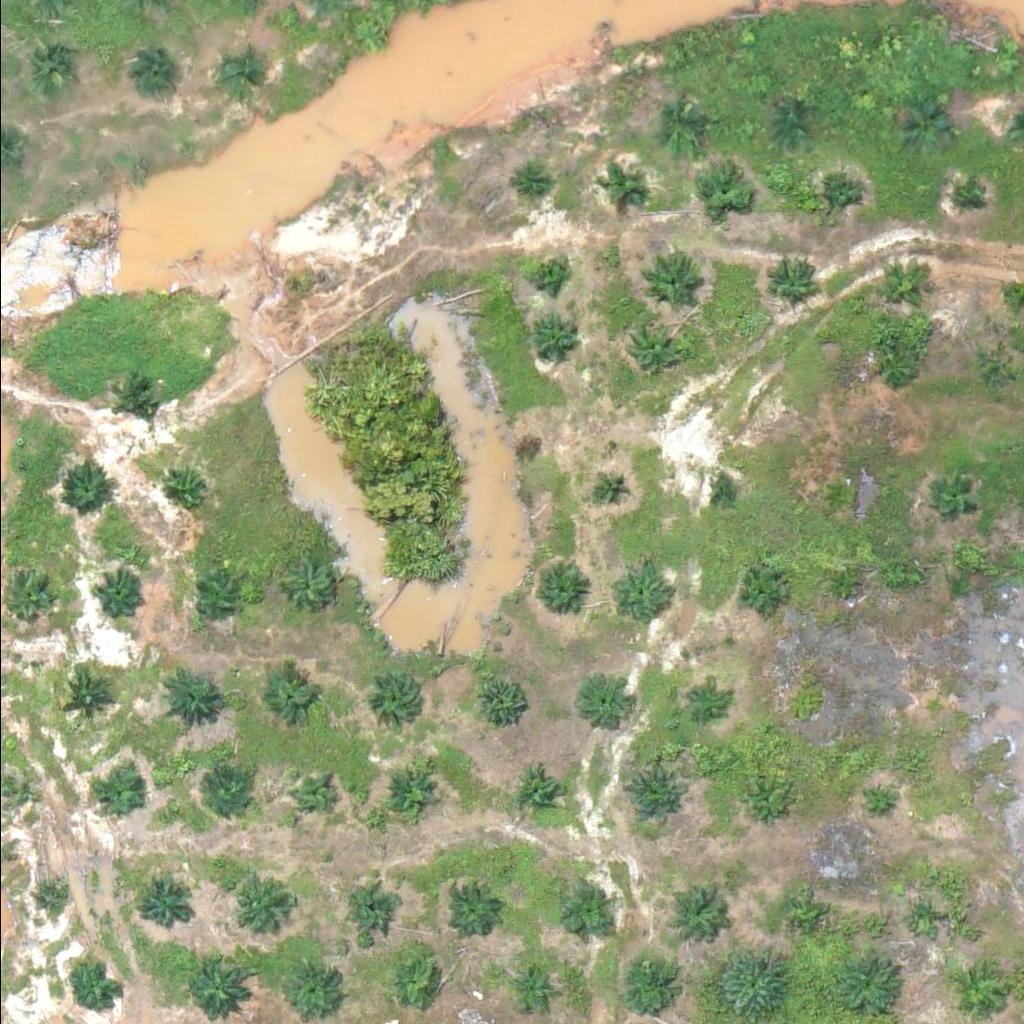Kelapa_Sawit: (829, 945, 905, 1020), (669, 878, 732, 941), (155, 666, 218, 729), (623, 763, 686, 826), (622, 317, 685, 380), (189, 957, 252, 1019), (226, 875, 289, 937), (279, 954, 342, 1016), (23, 37, 86, 99), (526, 557, 589, 619), (384, 761, 447, 823), (608, 561, 671, 623), (640, 251, 703, 313), (869, 347, 920, 397), (100, 764, 151, 814), (199, 768, 250, 818), (262, 666, 313, 716), (576, 677, 627, 727), (277, 560, 328, 610), (194, 571, 245, 621), (96, 571, 147, 621), (57, 671, 108, 721), (475, 674, 526, 724), (511, 765, 562, 815), (739, 567, 790, 617), (875, 260, 926, 310), (135, 879, 185, 929), (68, 960, 118, 1010), (351, 886, 401, 936), (557, 889, 607, 939), (447, 885, 497, 935), (391, 952, 441, 1002), (125, 53, 175, 103), (215, 49, 265, 99), (373, 671, 423, 721), (57, 462, 107, 512), (949, 967, 999, 1017), (161, 465, 211, 515), (105, 374, 155, 424), (805, 168, 855, 218), (696, 166, 746, 216), (763, 255, 813, 305), (527, 315, 577, 365), (930, 475, 980, 525), (897, 102, 947, 152), (646, 104, 696, 154), (513, 967, 551, 1005), (683, 680, 721, 718), (603, 165, 641, 203), (512, 166, 550, 204), (529, 253, 567, 291), (740, 785, 778, 822), (296, 774, 334, 811), (592, 472, 630, 509), (817, 476, 854, 514), (972, 350, 1009, 388), (770, 106, 808, 143), (822, 569, 860, 606), (788, 907, 814, 932), (40, 885, 65, 910), (906, 905, 931, 930), (863, 788, 888, 813), (708, 478, 733, 503), (954, 185, 979, 210), (918, 694, 943, 719), (6, 790, 31, 815)
